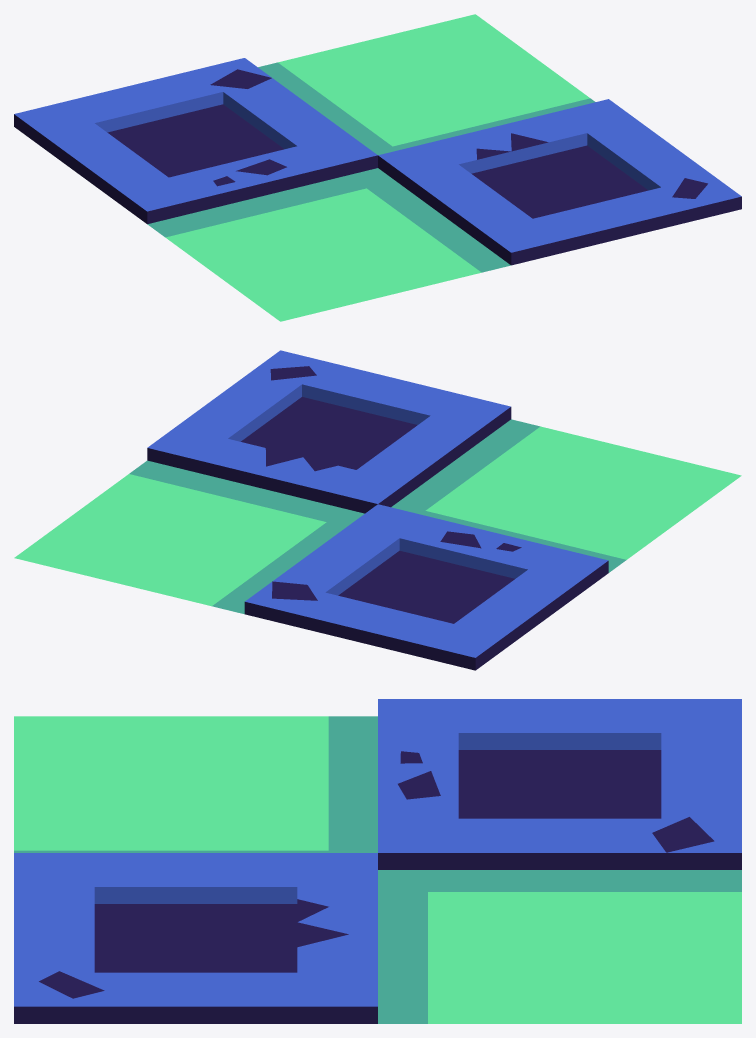
File: plitka2.fbx
3 views of the same model, one above another, from view 1: azimuth 30°, elevation 25°; view 2: azimuth 150°, elevation 25°; view 3: azimuth 270°, elevation 25° (orthographic). The views are drawn at different scales.
Parts seen in each view (by area): view 1: Плоскость; view 2: Плоскость; view 3: Плоскость.
Part boxes in pixels (x1,y1,x2,y2): Плоскость: [14, 14, 741, 321]; Плоскость: [14, 350, 741, 670]; Плоскость: [14, 699, 741, 1023].
Size of the model in its own units: 200 by 5.25 by 200.
